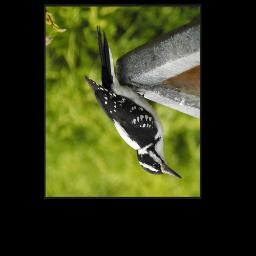Woodpecker: (84, 25, 183, 184)
